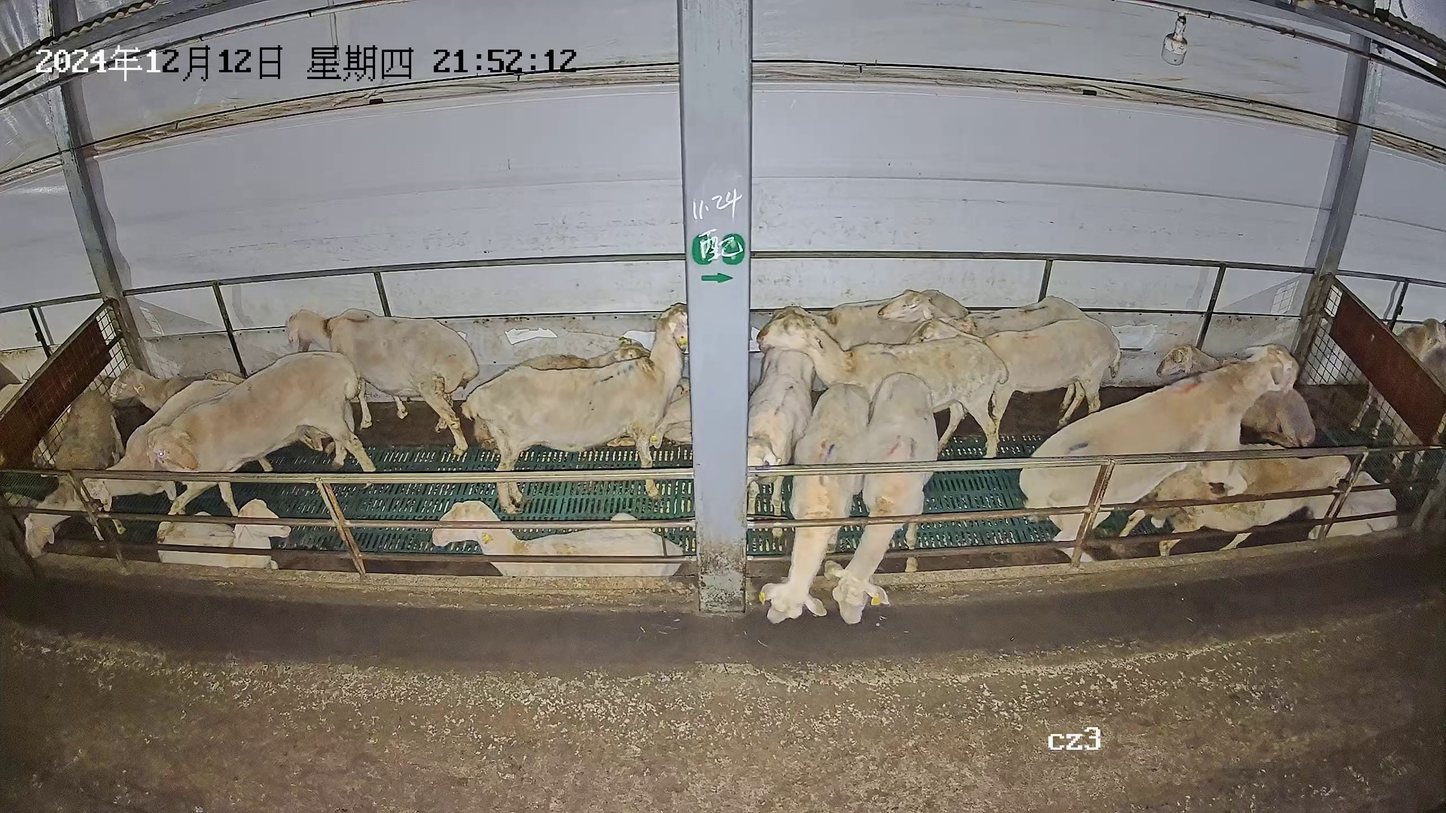Smounting: (1016, 342, 1355, 561)
mounted: (1113, 437, 1351, 556)
